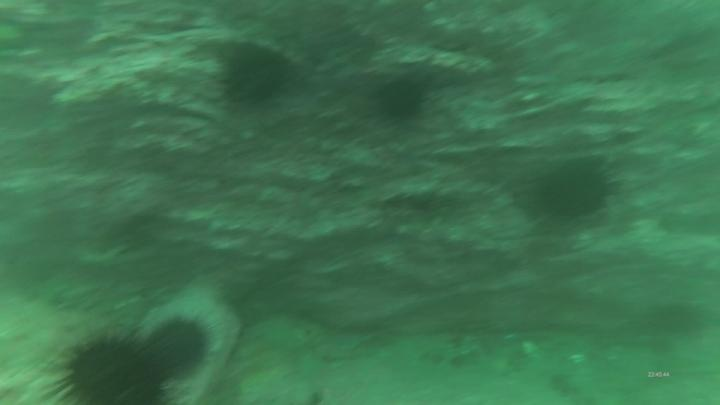echinus: (48, 326, 172, 405), (216, 41, 298, 116), (533, 159, 615, 225), (148, 314, 213, 384), (368, 73, 435, 128)
